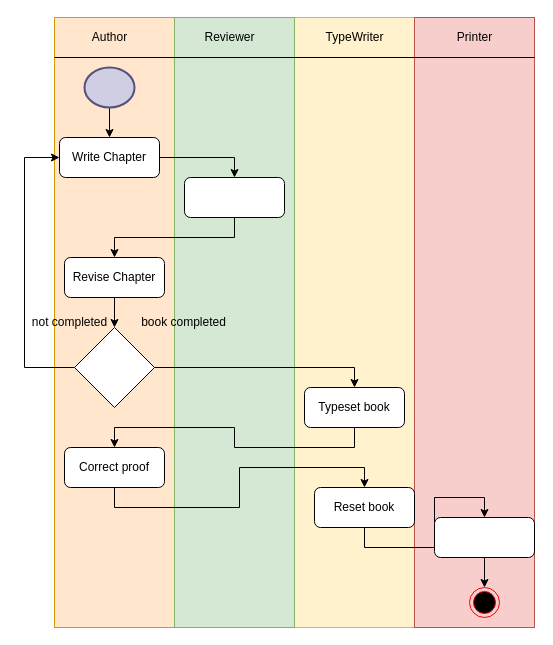
This 553x645 diagram has some shape labels left out. The shapes that lost their labels are listed below. From the top down, each one's box as (x1, y1, x2, y2) in pixels, then its label:
(184, 176, 284, 218): Review Chapter
(434, 516, 534, 558): Print book
